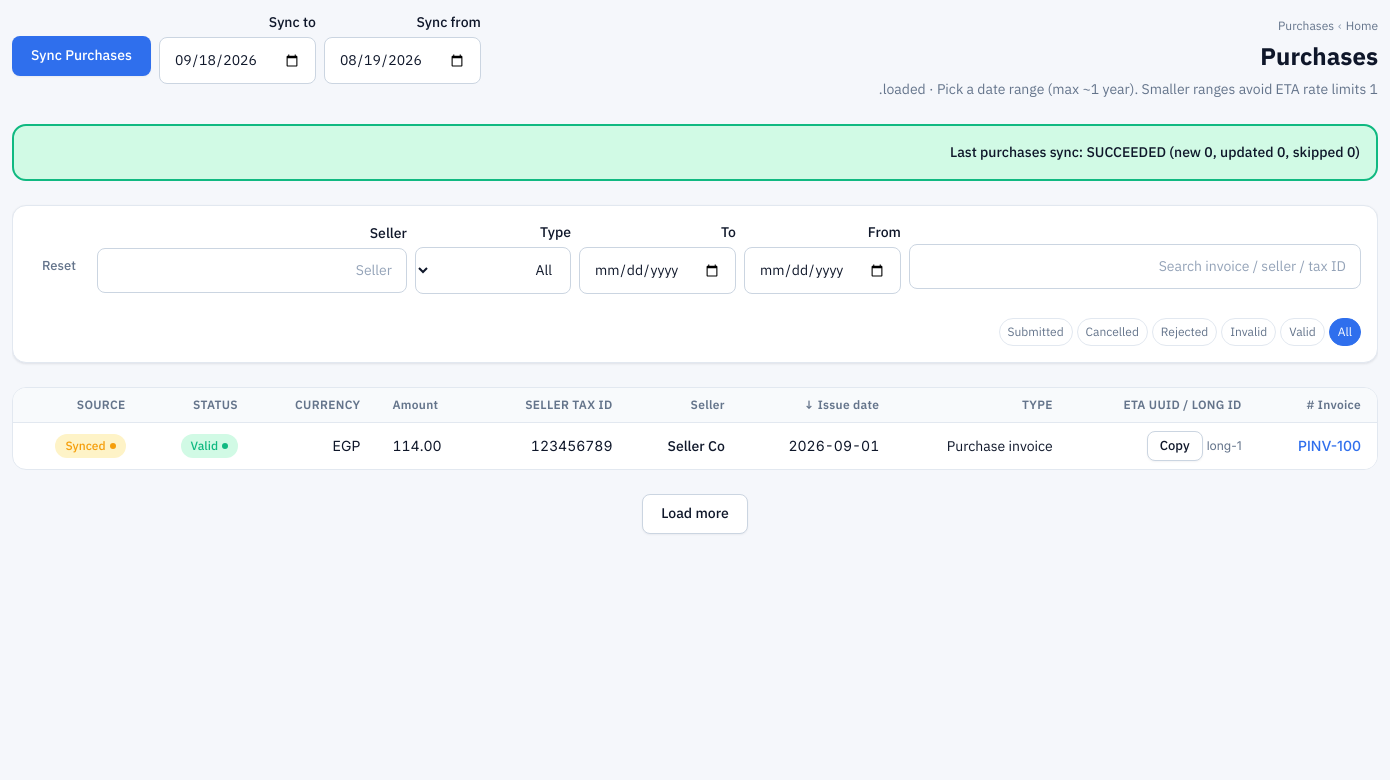
Test: purchases list › loads more with the existing cursor
Expected: the link "PINV-100" is shown, x1=1298 y1=437 x2=1361 y2=454
Click the button "Load more" at point(695, 514), box x1=642 y1=494 x2=748 y2=534
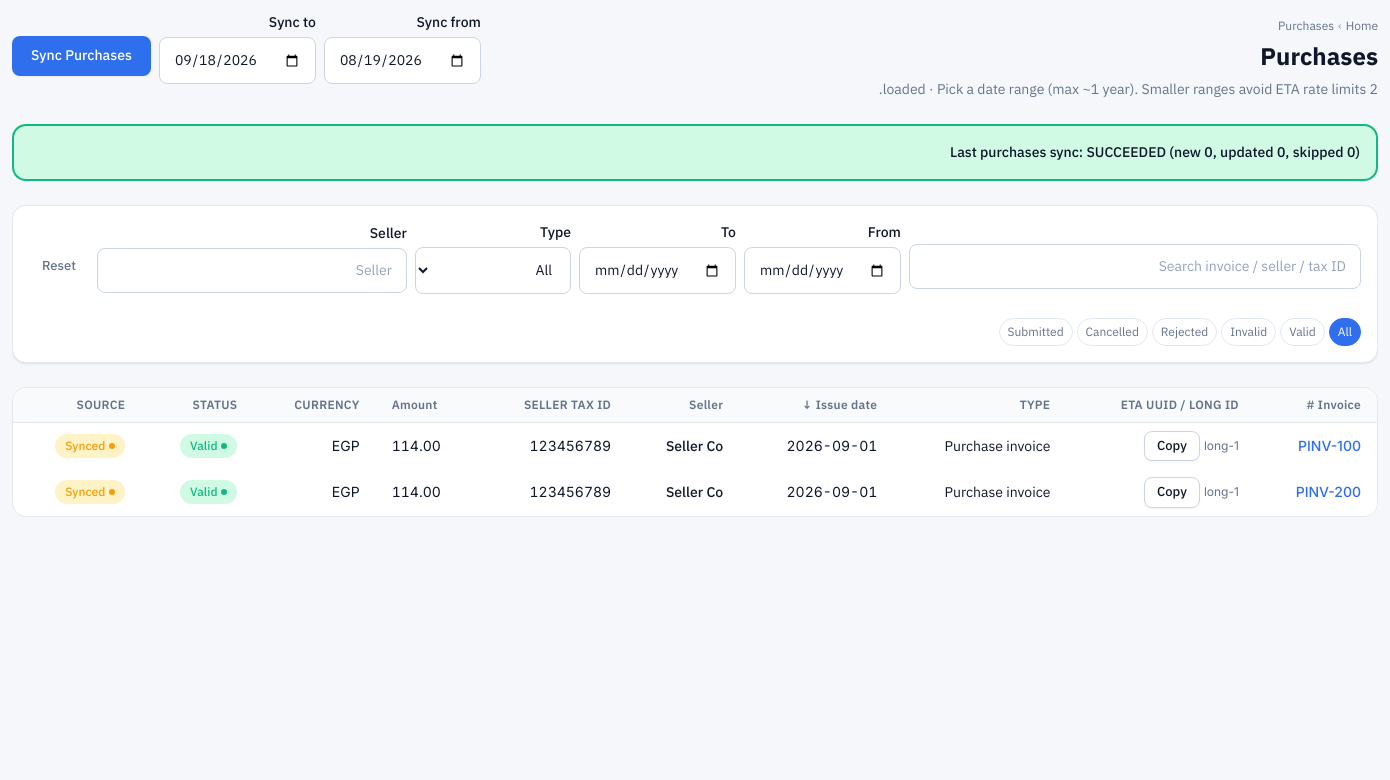
Expected: the link "PINV-200" is shown, x1=1296 y1=483 x2=1361 y2=500
